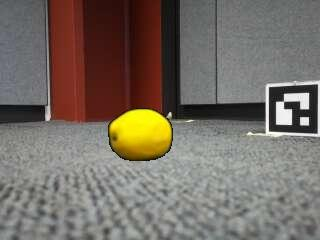lemon: (109, 109, 171, 160)
